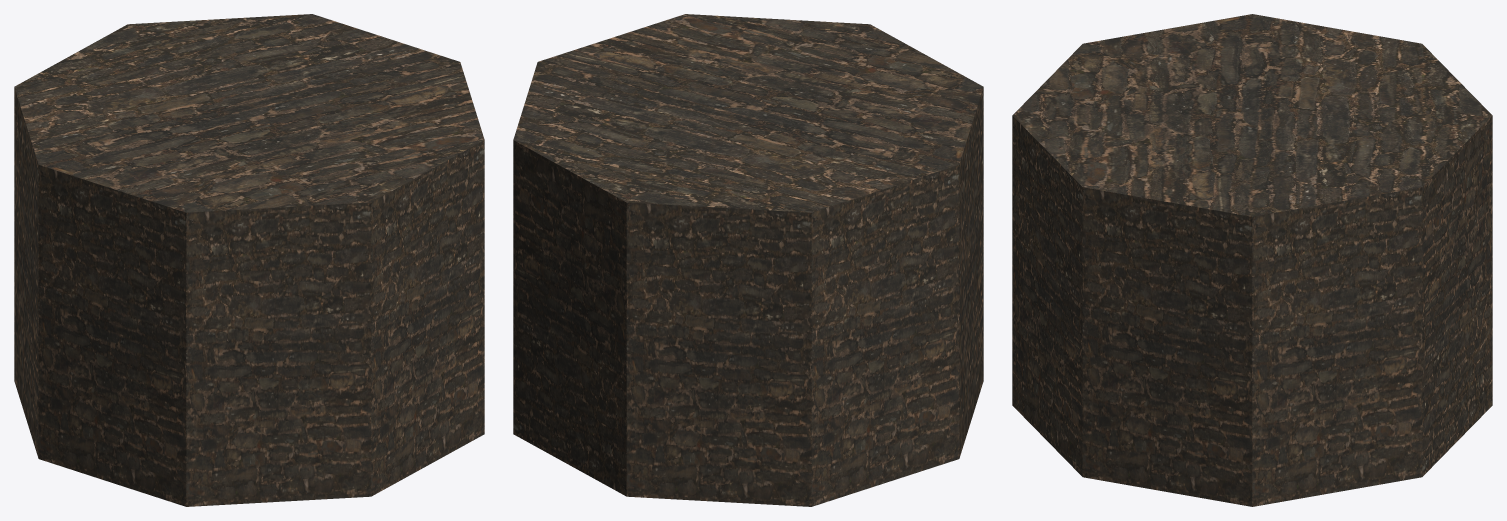
The model's file is only_uv.fbx.
3 renders of one model, left to right at view 1: azimuth 30°, elevation 25°; view 2: azimuth 150°, elevation 25°; view 3: azimuth 270°, elevation 25°, orthographic.
Parts seen in each view (by area): view 1: Cylinder; view 2: Cylinder; view 3: Cylinder.
Boxes of the visible parts, x1,y1,x2,y2 form: Cylinder: (14,14,484,506); Cylinder: (513,14,983,506); Cylinder: (1012,14,1492,506).
Bounding box in the file's own units: 600 × 400 × 600.
